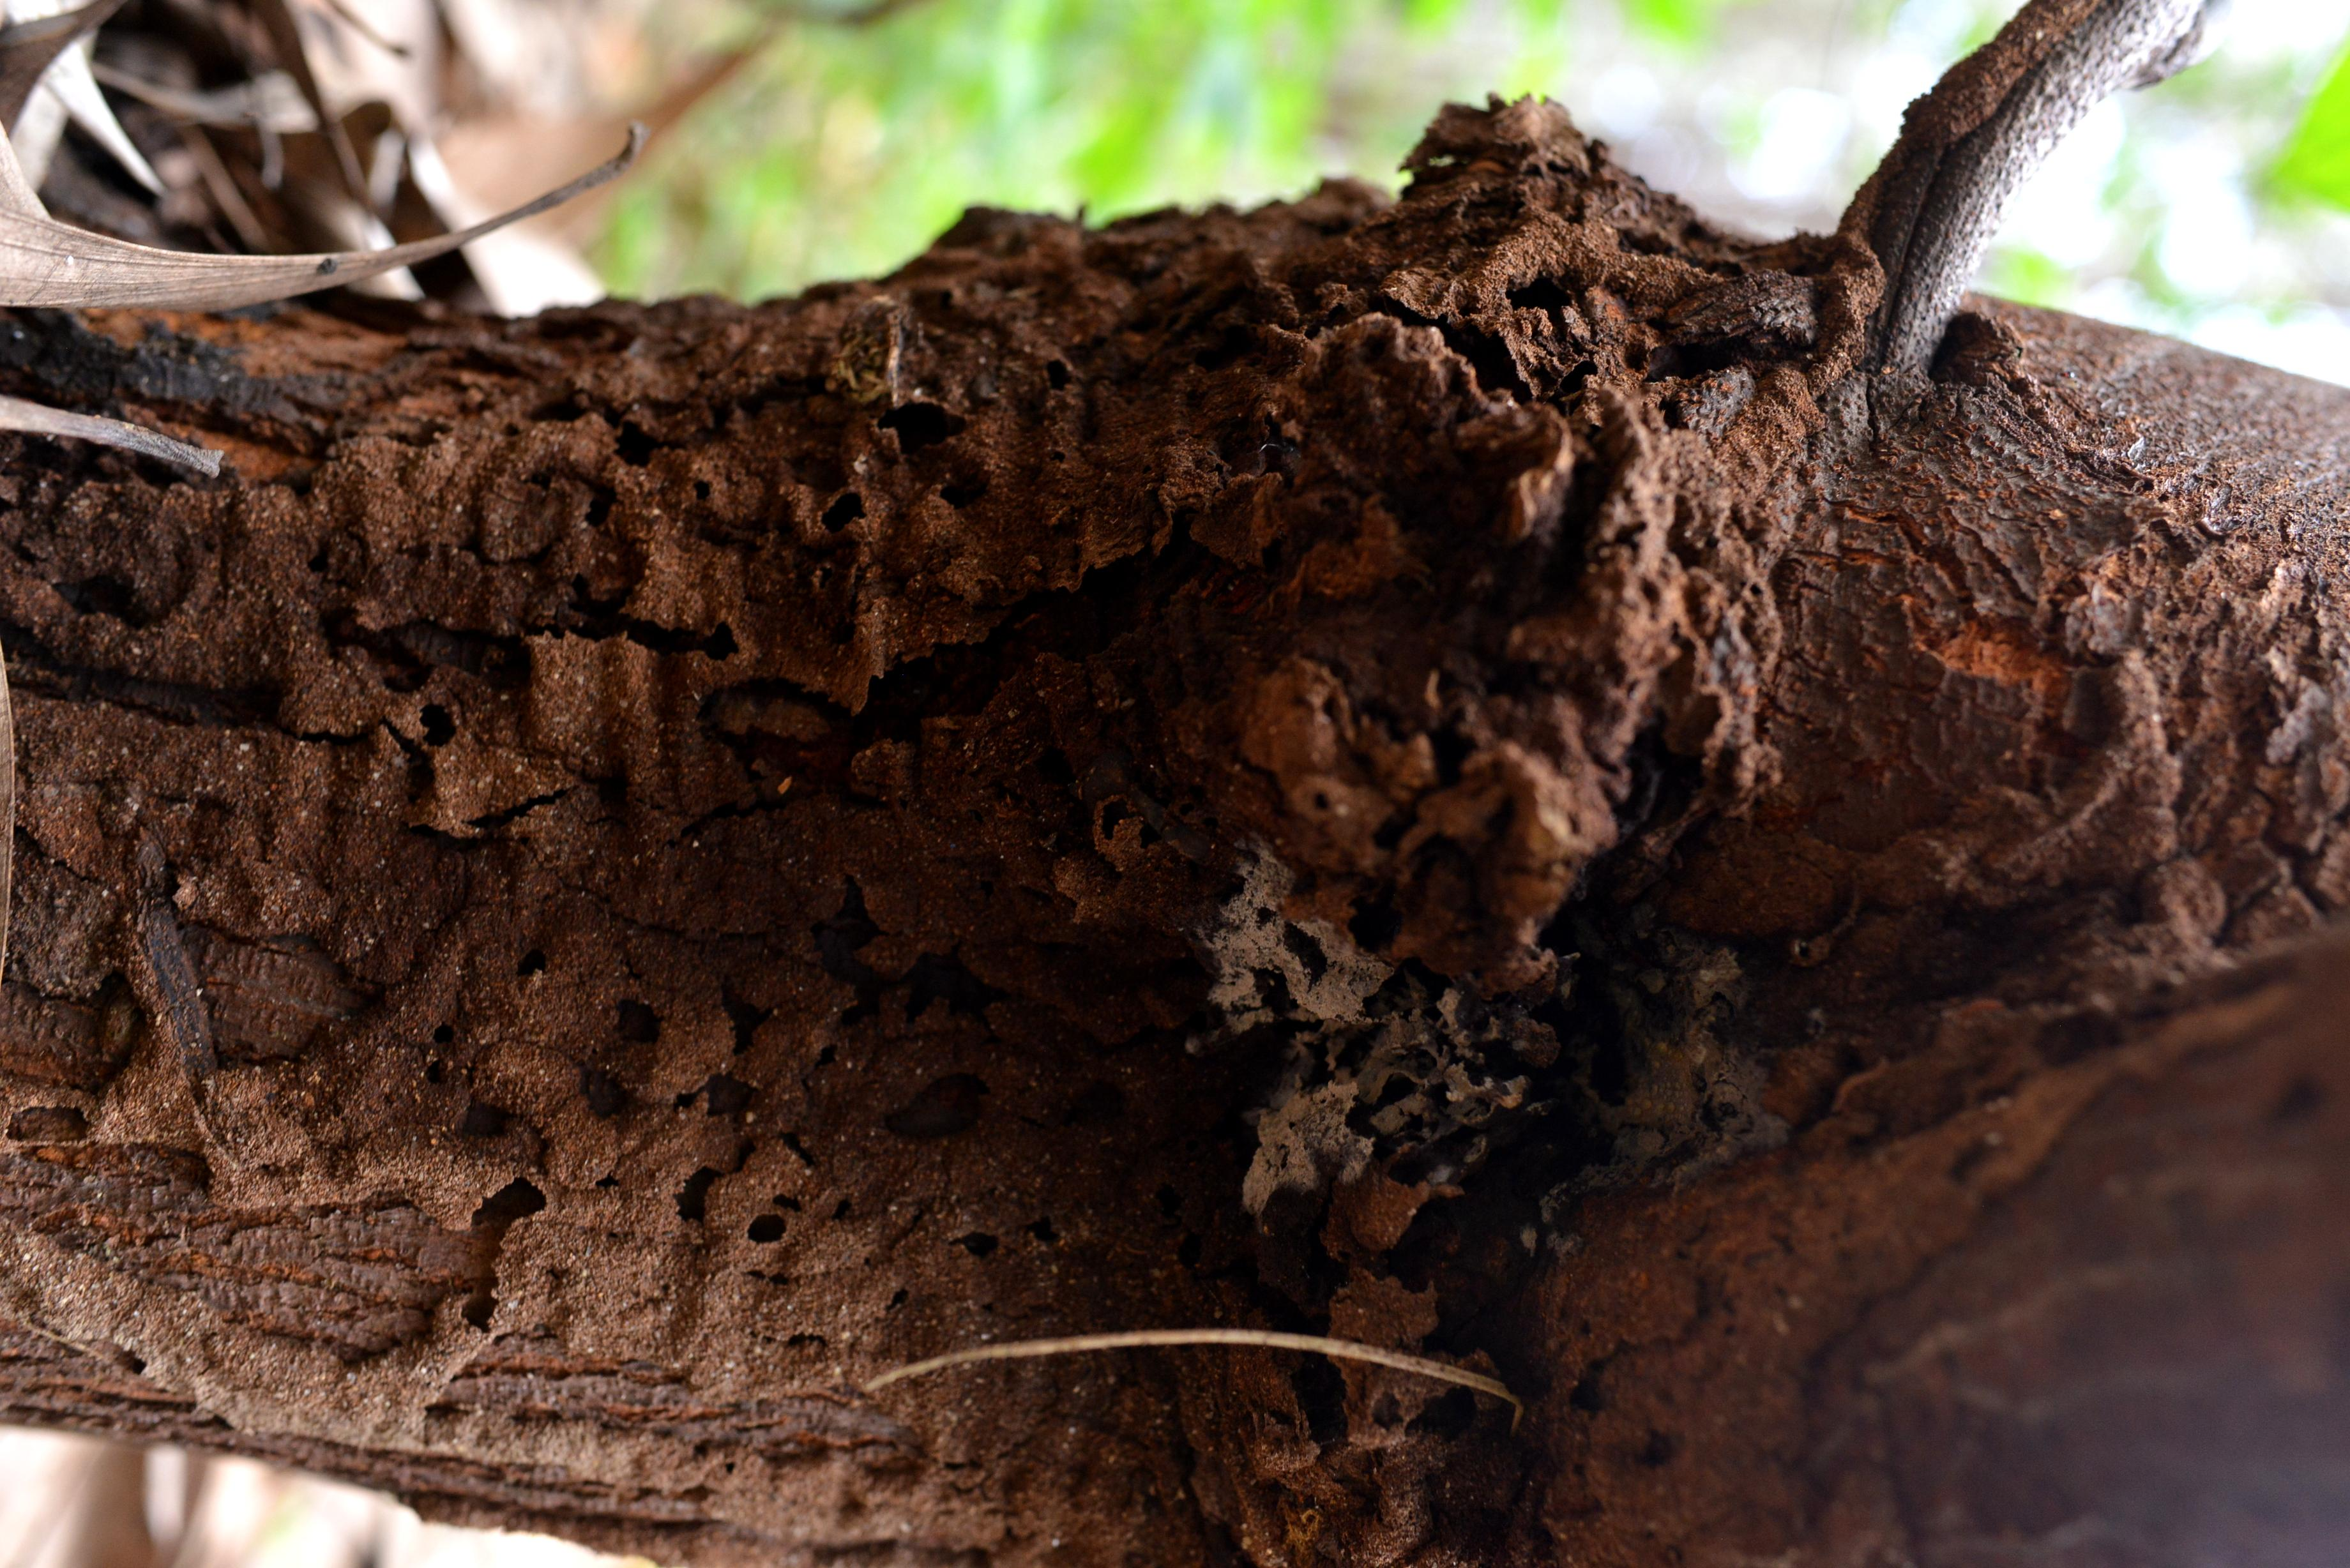Termite - Nest: (65, 80, 1734, 1538)
